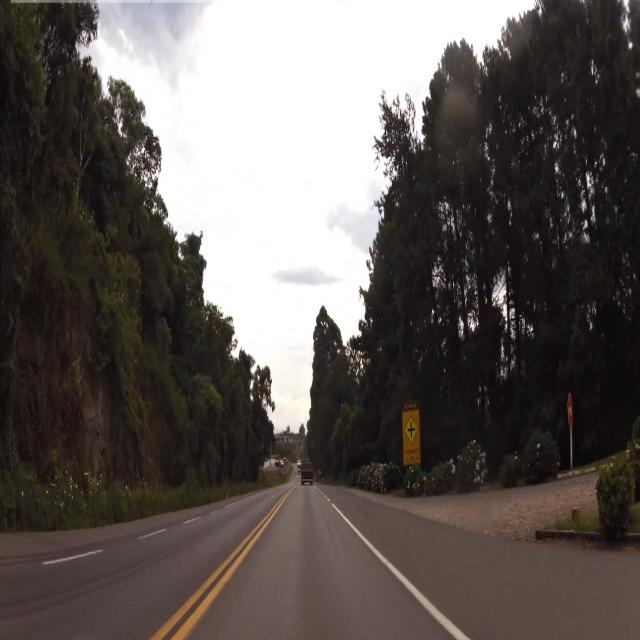A-6: (406, 415, 418, 444)
R-1: (566, 393, 575, 428)
